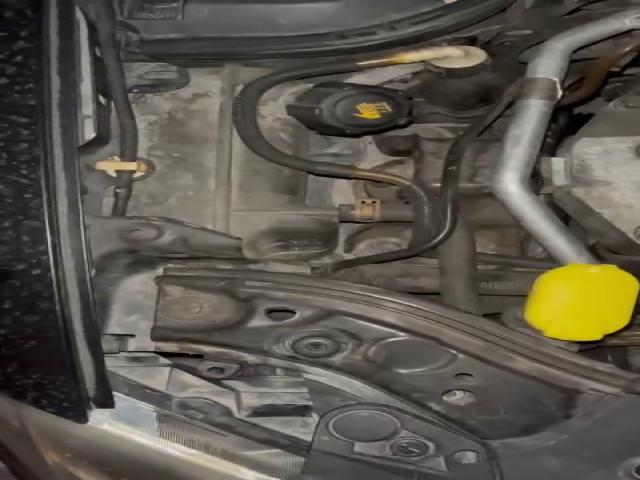antifreeze_tank: (130, 67, 347, 261), (258, 81, 413, 152)
